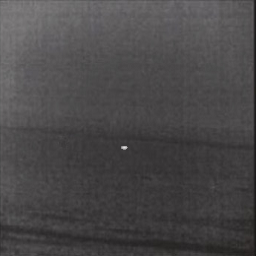Target: (119, 144, 129, 152)
